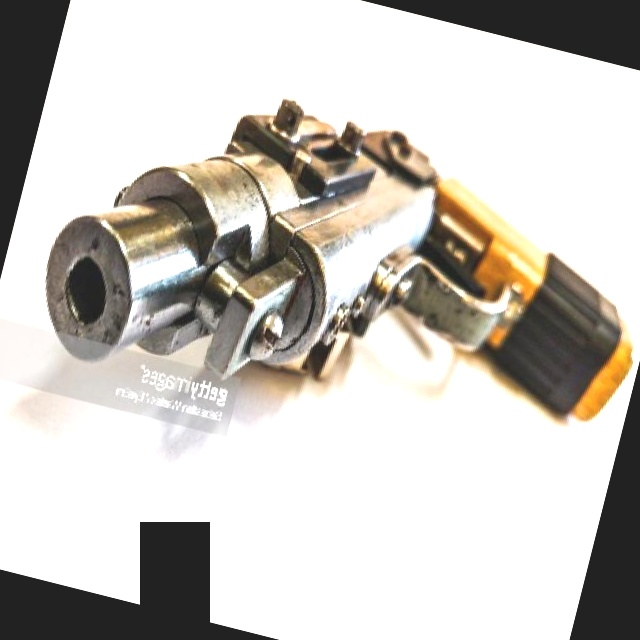gun: (21, 56, 640, 489)
